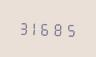eight: (54, 20, 65, 37)
five: (66, 20, 77, 38)
one: (30, 19, 41, 36)
six: (42, 19, 53, 37)
three: (18, 18, 29, 36)
